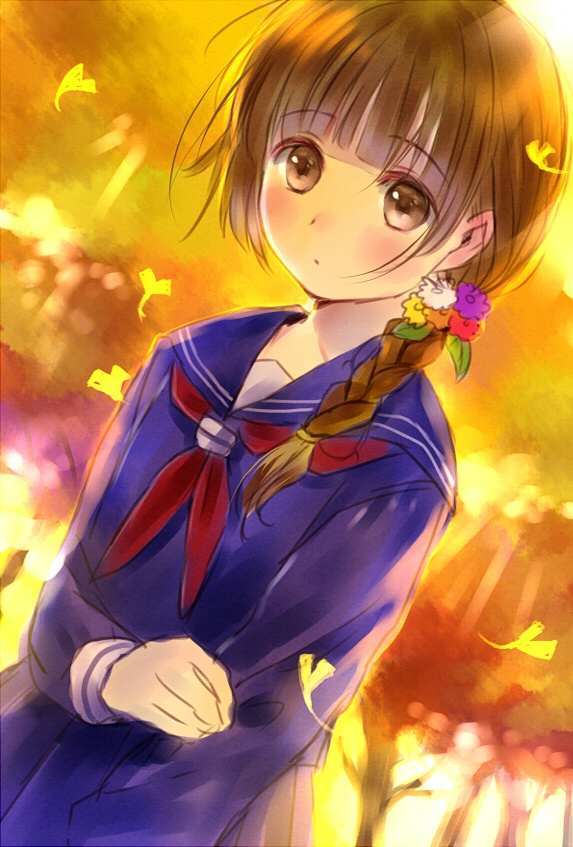纸片人正脸: (208, 0, 570, 307)
